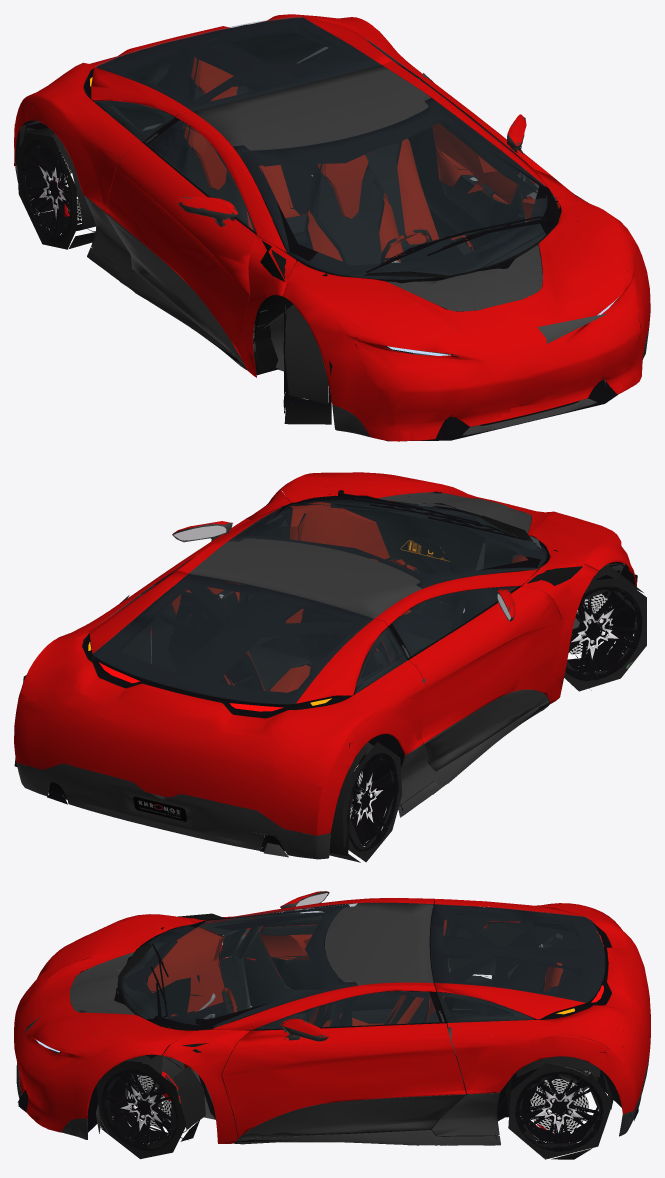
File: car-lod.glb
The picture shows the model from 3 angles, top to bottom: view 1: azimuth 30°, elevation 25°; view 2: azimuth 150°, elevation 25°; view 3: azimuth 270°, elevation 25°; orthographic projection. The views are drawn at different scales.
Parts seen in each view (by area): view 1: BodyHood, BodyWindshield, BodyRearwindow, BodyDoorRColor1, BodyRearPanelsColor1, BodyRoofPanel, BodyWindshieldGasket, InteriorSeatsColor1, InteriorSeatsColor2, BodyPillars, InteriorPillar, InteriorRearHatch (+25 smaller); view 2: BodyRearPanelsColor1, BodyRearwindow, BodyWindshield, BodyDoorRColor1, BodyPanelsColor2, BodyRoofPanel, InteriorDashMid, BodyHood, InteriorRearHatch, InteriorPillar, BodyPillars, WheelFrontRRim (+22 smaller); view 3: BodyRearPanelsColor1, BodyWindshield, BodyDoorLColor1, BodyHood, BodyRearwindow, BodyRoofPanel, BodyPillars, BodyDoorLColor2, BodyPanelsColor2, InteriorFloor, InteriorRearHatch, InteriorMid (+26 smaller).
Boxes of the visible parts, left/top/right/bottom form: BodyHood: left=282, top=198, right=650, bottom=441; BodyWindshield: left=233, top=98, right=546, bottom=279; BodyRearwindow: left=95, top=17, right=380, bottom=110; BodyDoorRColor1: left=104, top=143, right=256, bottom=362; BodyRearPanelsColor1: left=14, top=14, right=422, bottom=210; BodyRoofPanel: left=193, top=65, right=430, bottom=150; BodyWindshieldGasket: left=240, top=103, right=555, bottom=283; InteriorSeatsColor1: left=183, top=57, right=473, bottom=261; InteriorSeatsColor2: left=180, top=78, right=471, bottom=306; BodyPillars: left=176, top=61, right=595, bottom=377; InteriorPillar: left=158, top=38, right=433, bottom=168; InteriorRearHatch: left=93, top=17, right=380, bottom=117; BodyRearPanelsColor1: left=14, top=570, right=425, bottom=835; BodyRearwindow: left=92, top=574, right=373, bottom=704; BodyWindshield: left=229, top=498, right=546, bottom=588; BodyDoorRColor1: left=408, top=586, right=561, bottom=743; BodyPanelsColor2: left=16, top=628, right=633, bottom=859; BodyRoofPanel: left=189, top=538, right=421, bottom=618; InteriorDashMid: left=330, top=496, right=540, bottom=622; BodyHood: left=277, top=472, right=636, bottom=586; InteriorRearHatch: left=93, top=574, right=383, bottom=706; InteriorPillar: left=174, top=575, right=417, bottom=682; BodyPillars: left=175, top=490, right=598, bottom=703; WheelFrontRRim: left=565, top=575, right=642, bottom=681; BodyRearPanelsColor1: left=434, top=899, right=650, bottom=1113; BodyWindshield: left=122, top=903, right=356, bottom=1026; BodyDoorLColor1: left=222, top=1023, right=465, bottom=1138; BodyHood: left=14, top=914, right=196, bottom=1132; BodyRearwindow: left=430, top=904, right=604, bottom=1002; BodyRoofPanel: left=325, top=902, right=433, bottom=985; BodyPillars: left=162, top=898, right=436, bottom=1143; BodyDoorLColor2: left=239, top=1094, right=465, bottom=1138; BodyPanelsColor2: left=16, top=1007, right=649, bottom=1145; InteriorFloor: left=20, top=921, right=638, bottom=1142; InteriorRearHatch: left=429, top=904, right=604, bottom=1019; InteriorMid: left=178, top=913, right=497, bottom=1142.
Bounding box in the file's own units: 2.55 × 1.17 × 4.36.
23 materials, 6 textured.
